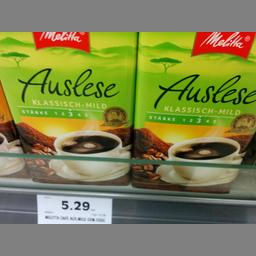coffee: (0, 31, 136, 182), (132, 31, 254, 191)
